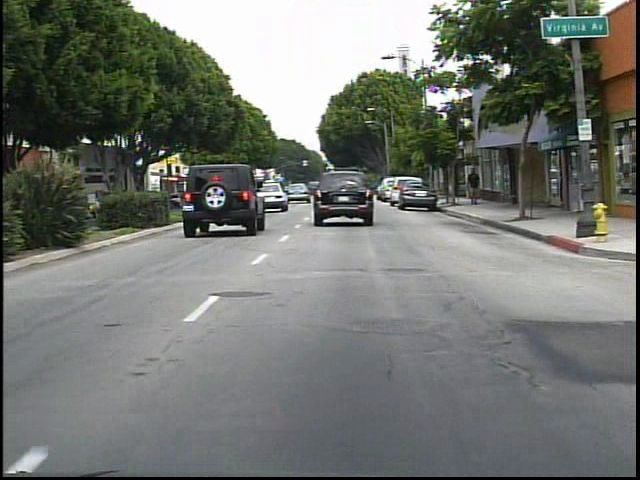person: (464, 167, 485, 209)
